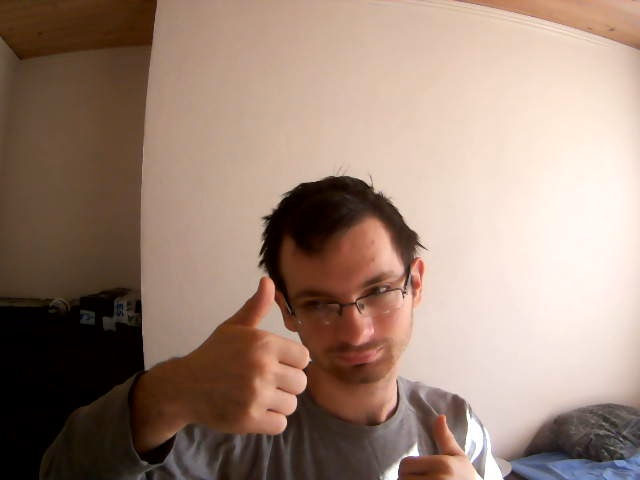nice: (196, 276, 312, 435)
